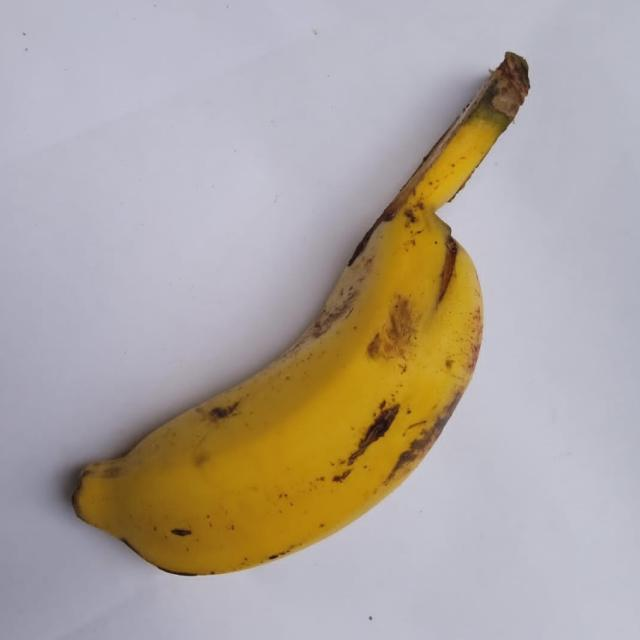banana: (74, 54, 528, 574)
